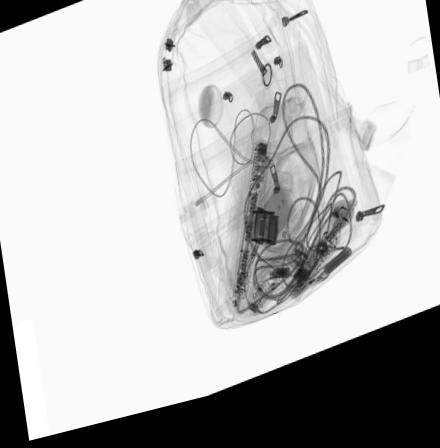Lighter: (246, 293, 272, 329)
